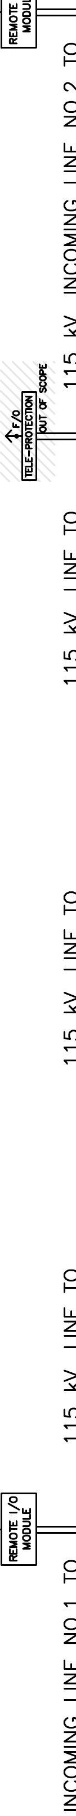remote_io_module: (0, 1493, 38, 1566)
tele_protection: (21, 390, 38, 482)
